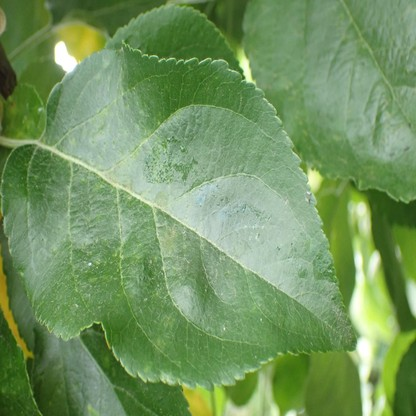powdery_mildew: (322, 297, 353, 345)
scab: (85, 110, 112, 140), (163, 231, 175, 255), (154, 192, 170, 209), (152, 340, 164, 353)
